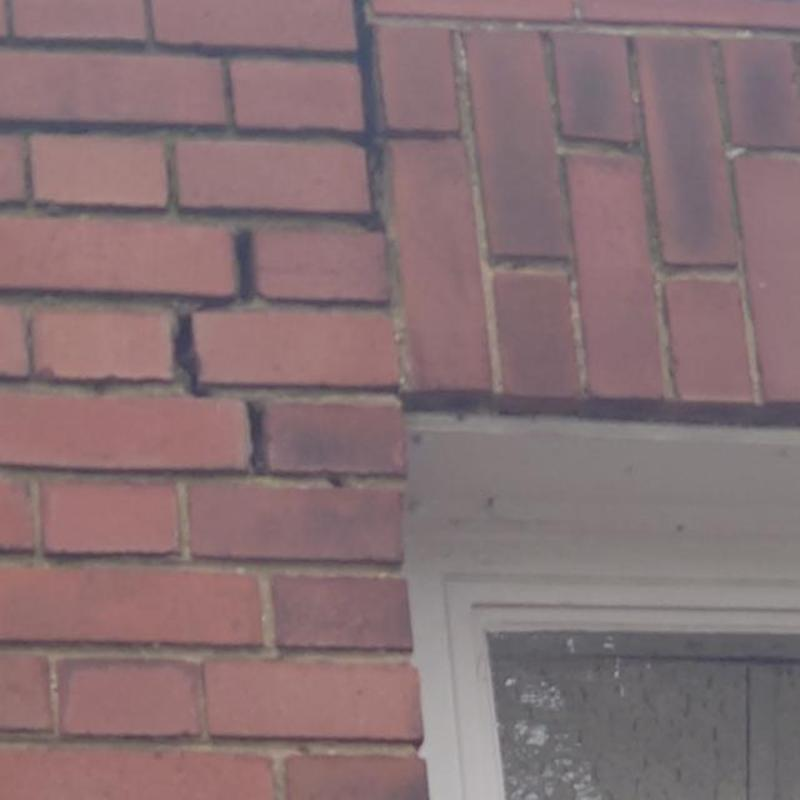crack: (356, 0, 388, 230), (175, 311, 212, 398), (233, 230, 255, 299), (249, 400, 266, 473)
